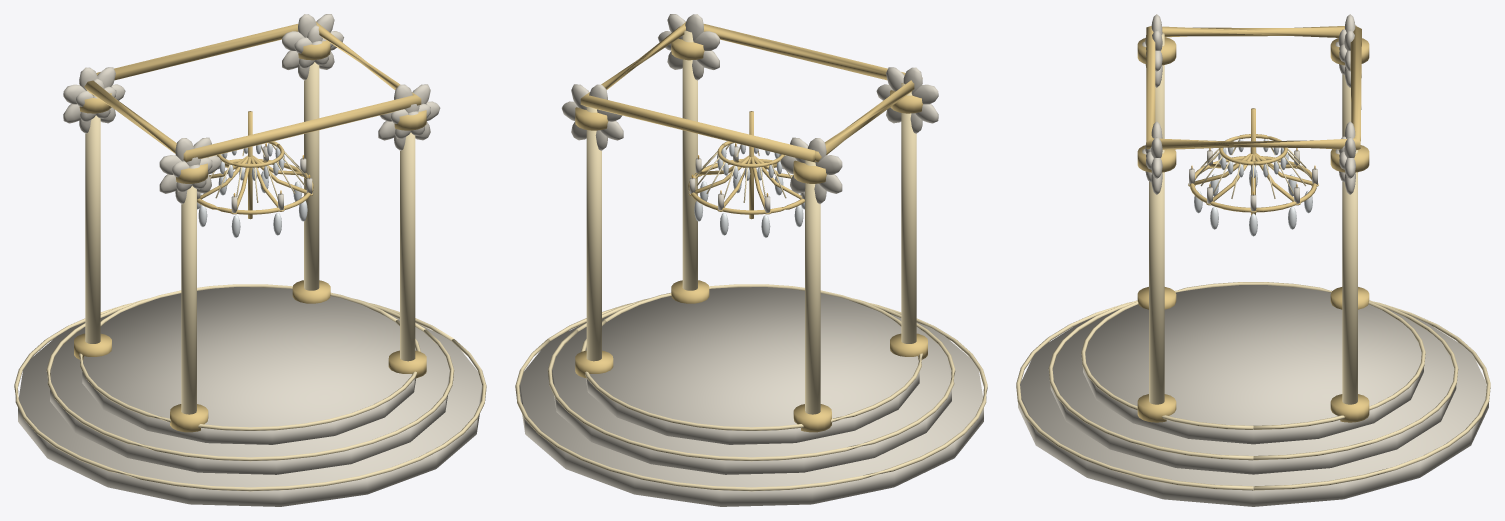
File: mandap-pavilion.glb
The picture shows the model from 3 angles, left to right: view 1: azimuth 30°, elevation 25°; view 2: azimuth 150°, elevation 25°; view 3: azimuth 270°, elevation 25°; orthographic projection.
Visible parts, largest first — view 1: stage-0, columns-2, gold-trims-1, petals-4, canopy-rim-6, capitals-3, frame-7, crystals-12, chains-13; view 2: stage-0, columns-2, gold-trims-1, canopy-rim-6, petals-4, capitals-3, frame-7, crystals-12, chains-13; view 3: stage-0, gold-trims-1, columns-2, canopy-rim-6, capitals-3, petals-4, frame-7, crystals-12, chains-13, wax-8.
Part boxes in pixels (x1=…): stage-0: x1=18, y1=287, x2=482, y2=506; columns-2: x1=85, y1=62, x2=415, y2=414; gold-trims-1: x1=14, y1=284, x2=486, y2=491; petals-4: x1=63, y1=14, x2=440, y2=204; canopy-rim-6: x1=79, y1=21, x2=421, y2=162; capitals-3: x1=74, y1=40, x2=426, y2=432; frame-7: x1=197, y1=111, x2=313, y2=219; crystals-12: x1=197, y1=143, x2=307, y2=237; chains-13: x1=210, y1=144, x2=306, y2=202; stage-0: x1=519, y1=287, x2=983, y2=506; columns-2: x1=586, y1=30, x2=916, y2=414; gold-trims-1: x1=515, y1=284, x2=987, y2=491; canopy-rim-6: x1=580, y1=21, x2=922, y2=162; petals-4: x1=561, y1=14, x2=938, y2=204; capitals-3: x1=575, y1=38, x2=927, y2=432; frame-7: x1=688, y1=111, x2=804, y2=219; crystals-12: x1=694, y1=143, x2=804, y2=237; chains-13: x1=695, y1=144, x2=791, y2=202; stage-0: x1=1018, y1=285, x2=1488, y2=506; gold-trims-1: x1=1016, y1=282, x2=1490, y2=490; columns-2: x1=1149, y1=33, x2=1357, y2=404; canopy-rim-6: x1=1146, y1=25, x2=1361, y2=150; capitals-3: x1=1137, y1=37, x2=1369, y2=422; petals-4: x1=1145, y1=14, x2=1355, y2=194; frame-7: x1=1190, y1=108, x2=1316, y2=214; crystals-12: x1=1194, y1=139, x2=1312, y2=236; chains-13: x1=1196, y1=139, x2=1310, y2=198; wax-8: x1=1189, y1=147, x2=1317, y2=211.
Bounding box in the file's own units: 3.93 × 3.07 × 3.93.
